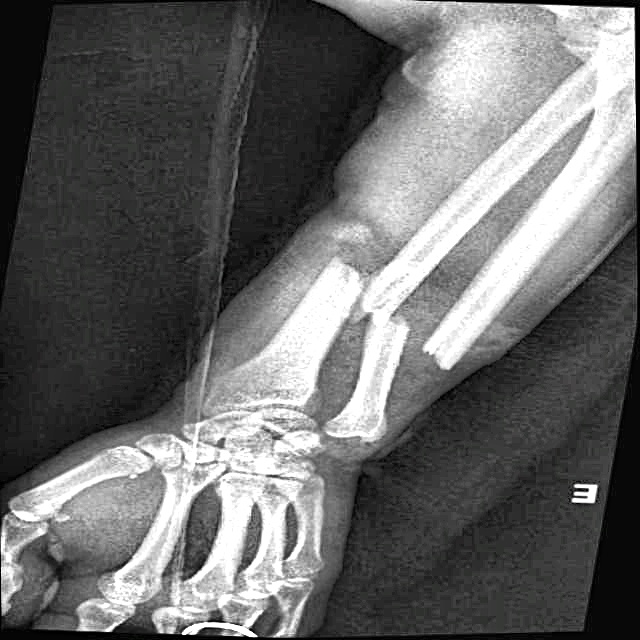Transverse: (305, 238, 421, 329), (358, 300, 490, 378)
